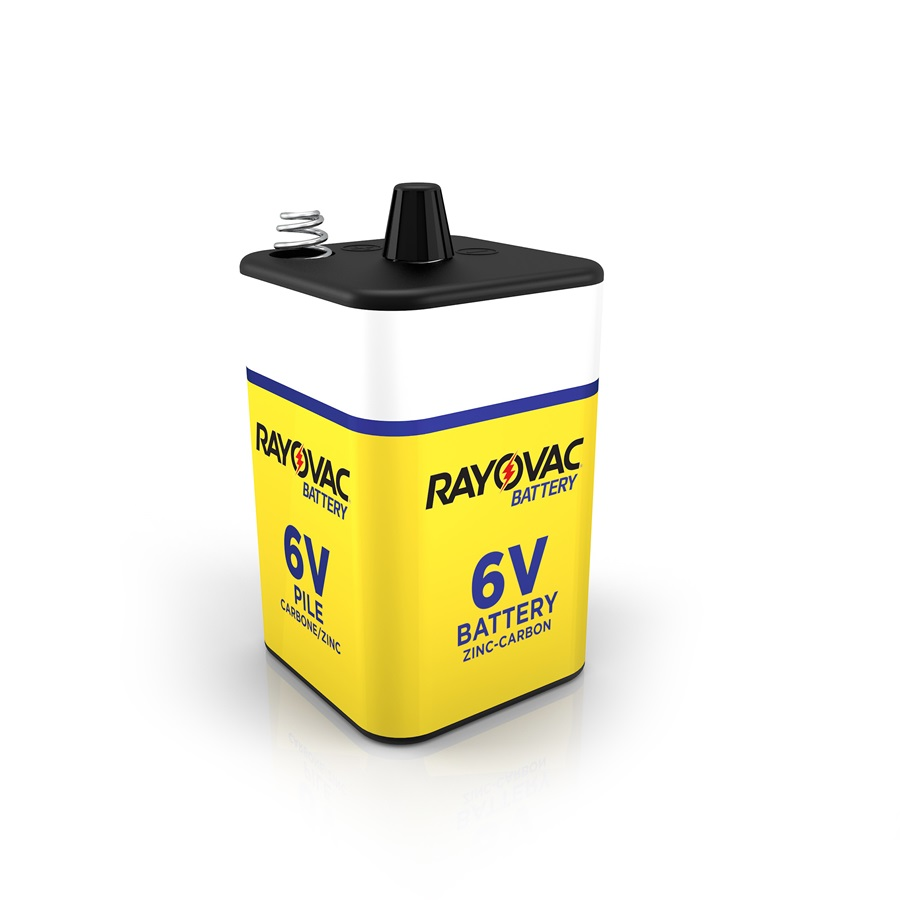6V: (230, 179, 615, 750)
